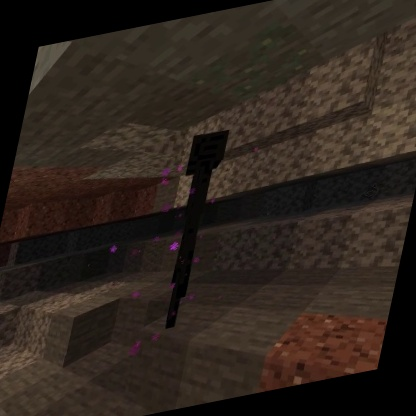enderman: (148, 126, 233, 336)
